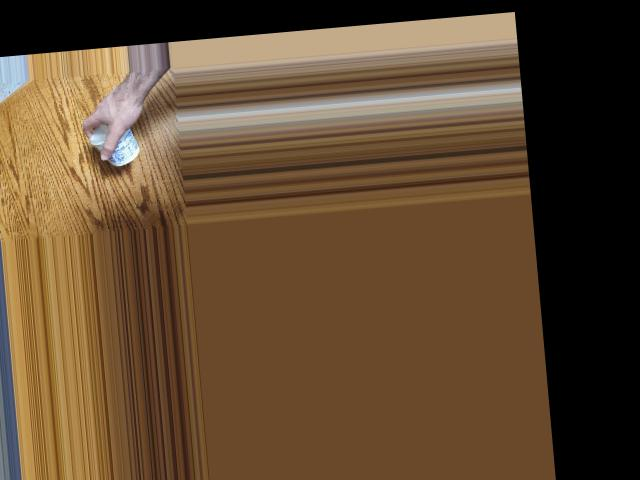cotage: (87, 122, 136, 167)
